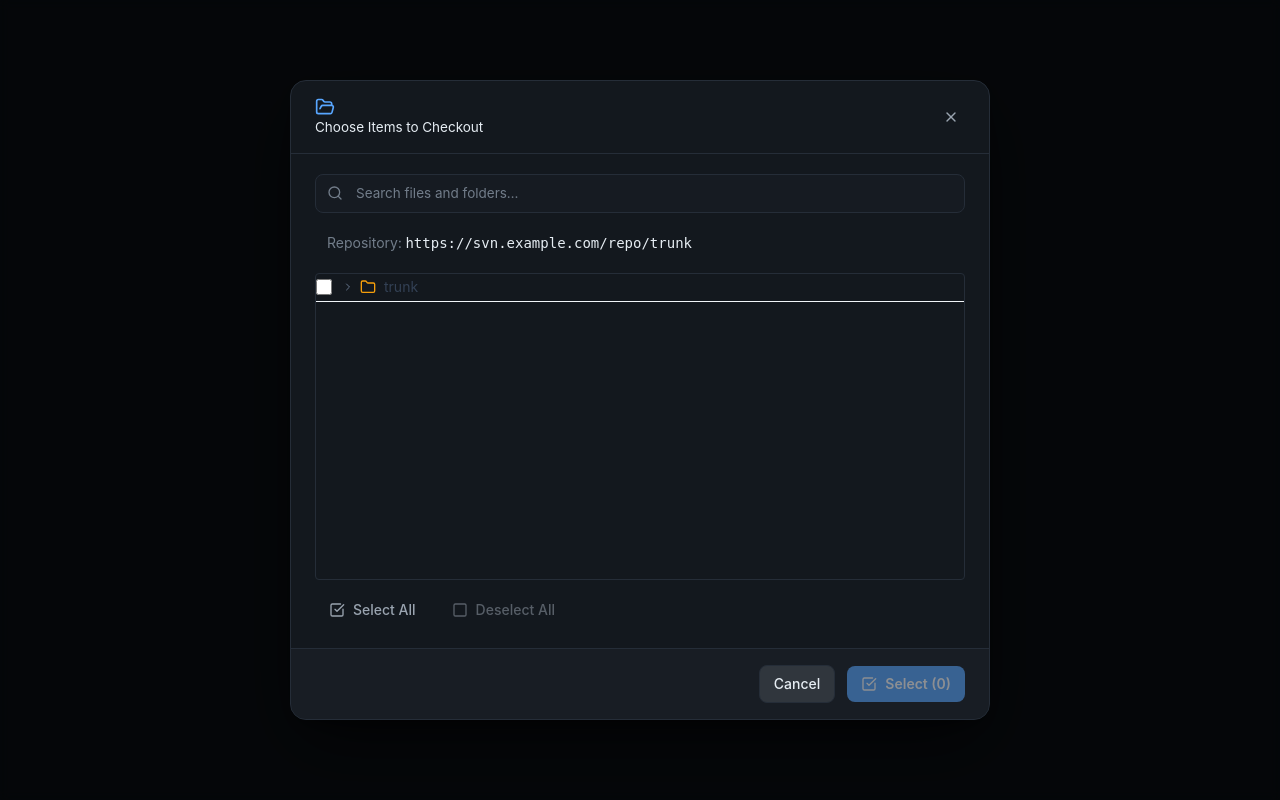
ChooseItemsDialog Integration › shows no matches message for empty search
Type "nonexistent" into the field with placeholder "Search files and folders…".
click(640, 193); type("nonexistent")  # box x1=315 y1=174 x2=965 y2=213
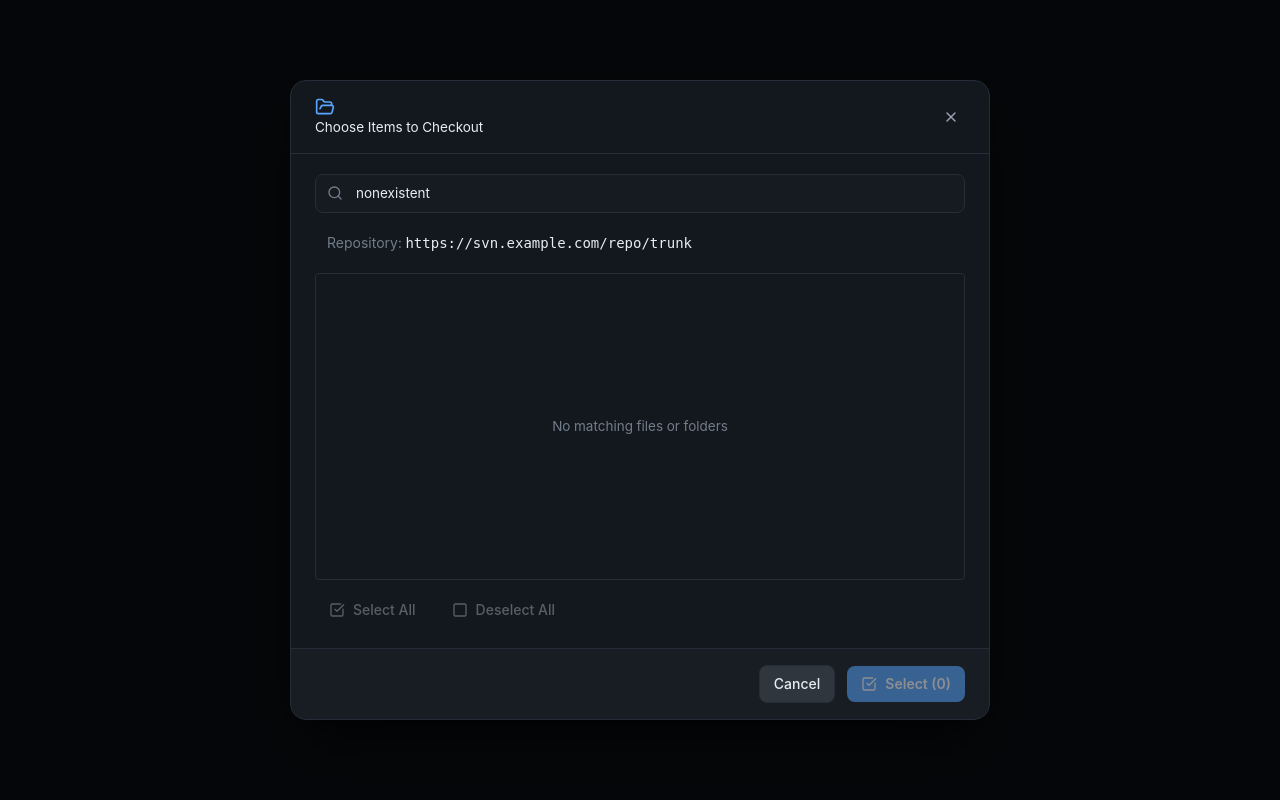
Result: the text "No matching files or folders" is shown at x1=552 y1=418 x2=728 y2=434
